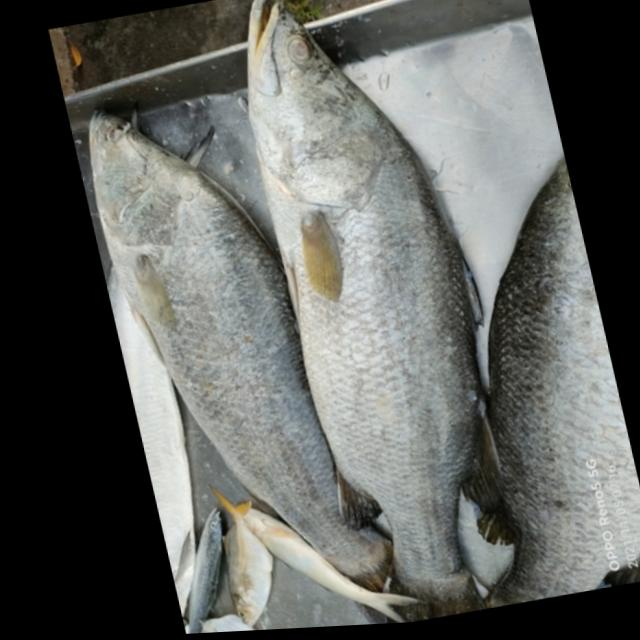Seabass: (217, 0, 549, 629), (69, 71, 412, 637)
